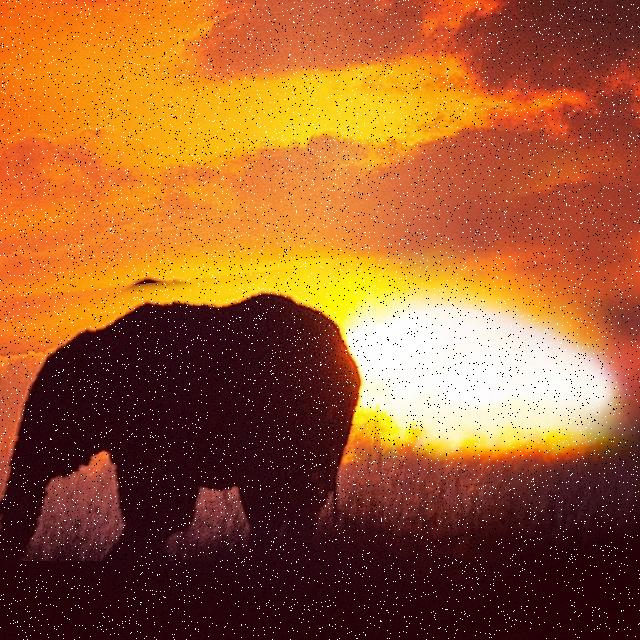elephant: (0, 259, 383, 561)
